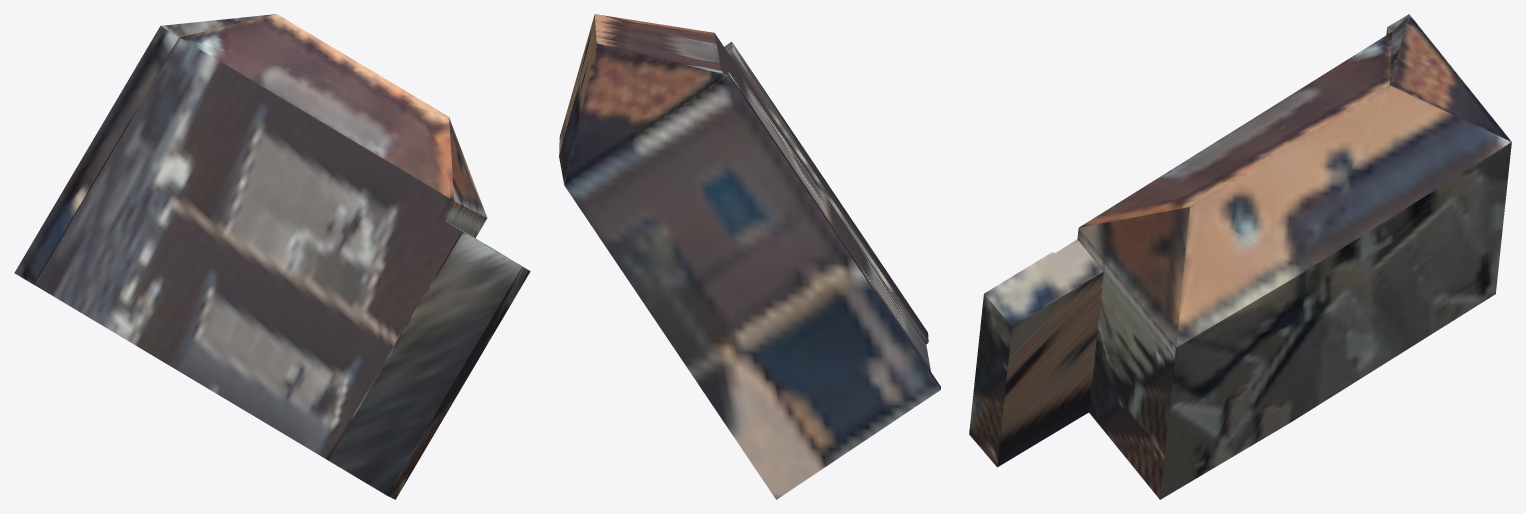
The picture shows the model from 3 angles, left to right: view 1: azimuth 30°, elevation 25°; view 2: azimuth 150°, elevation 25°; view 3: azimuth 270°, elevation 25°; orthographic projection. The views are drawn at different scales.
Parts seen in each view (by area): view 1: BAG_0599100000650099 (×5); view 2: BAG_0599100000650099 (×5); view 3: BAG_0599100000650099 (×3).
Boxes of the visible parts, x1,y1,x2,y2 form: BAG_0599100000650099 (×5): (14, 14, 530, 499); BAG_0599100000650099 (×5): (559, 14, 940, 499); BAG_0599100000650099 (×3): (969, 14, 1511, 499).
Bounding box in the file's own units: 13.49 × 12.87 × 14.27.
1 material, 1 textured.
